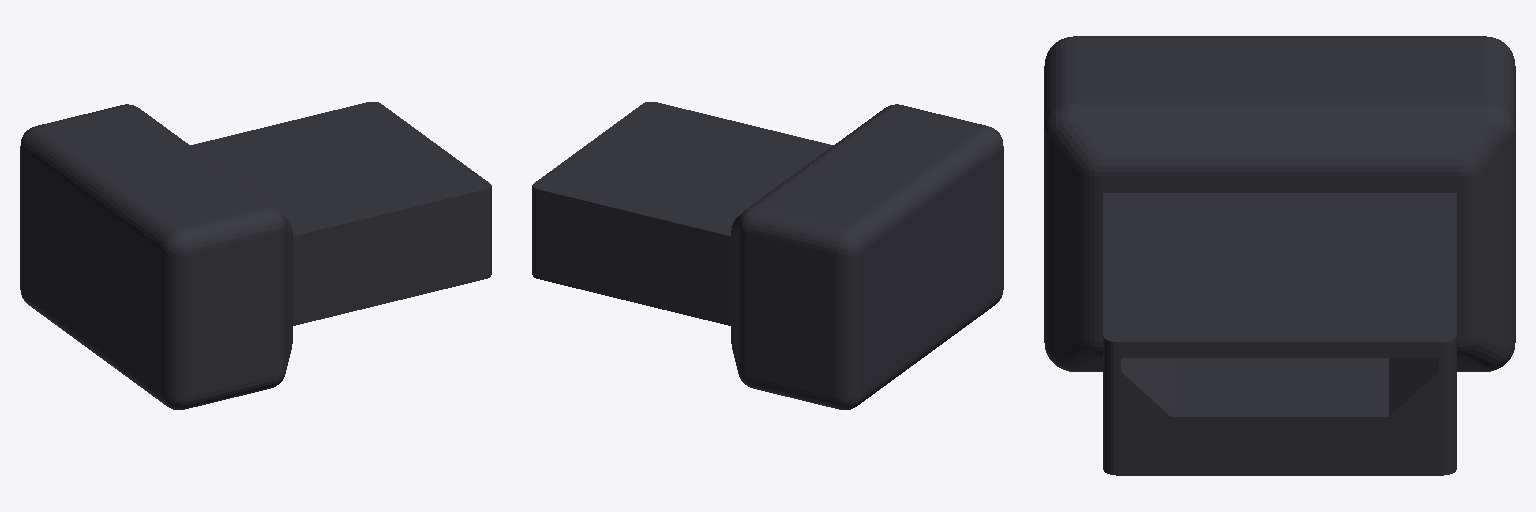
URDF robot description (cb_usb_stick_1):
<?xml version="1.0"?>
<!-- ContactBench usb_stick_1. Generated by FoundationTouch tools/contactbench/usb_tasks.py (A12) -->
<robot name="cb_usb_stick_1">
  <material name="c"><color rgba="0.25 0.25 0.28 1.0"/></material>
  <link name="object">
    <visual><origin xyz="0 0 0" rpy="0 0 0"/><geometry><mesh filename="usb_stick_1.obj" scale="1 1 1"/></geometry><material name="c"/></visual>
    <collision><origin xyz="0 0 0" rpy="0 0 0"/><geometry><mesh filename="coll_00.obj" scale="1 1 1"/></geometry></collision>
    <collision><origin xyz="0 0 0" rpy="0 0 0"/><geometry><mesh filename="coll_01.obj" scale="1 1 1"/></geometry></collision>
    <collision><origin xyz="0 0 0" rpy="0 0 0"/><geometry><mesh filename="coll_02.obj" scale="1 1 1"/></geometry></collision>
    <collision><origin xyz="0 0 0" rpy="0 0 0"/><geometry><mesh filename="coll_03.obj" scale="1 1 1"/></geometry></collision>
    <collision><origin xyz="0 0 0" rpy="0 0 0"/><geometry><mesh filename="coll_04.obj" scale="1 1 1"/></geometry></collision>
    <inertial><mass value="0.015000"/><origin xyz="0 0 0" rpy="0 0 0"/><inertia ixx="3.761828e-07" ixy="-1.358785e-15" ixz="1.428899e-08" iyy="5.084153e-07" iyz="1.950954e-15" izz="6.937322e-07"/></inertial>
  </link>
</robot>

--- Facts derived from the render (not from the file) ---
Views: 3 orthographic renders of the robot side by side, from view 1: azimuth 30°, elevation 25°; view 2: azimuth 150°, elevation 25°; view 3: azimuth 270°, elevation 25°.
Model cb_usb_stick_1 with 1 links and 0 joints (none), rooted at object, posed all joints at 0.
Visible links, largest first — view 1: object; view 2: object; view 3: object.
Boxes of the visible links, left/top/right/bottom form: object: left=20, top=102, right=491, bottom=409; object: left=532, top=102, right=1003, bottom=409; object: left=1044, top=36, right=1515, bottom=475.
Bounding box of the posed robot: 0.02 × 0.016 × 0.01 m (x, y, z).
1 mesh visuals loaded from 1 distinct referenced files (1 OBJ).
